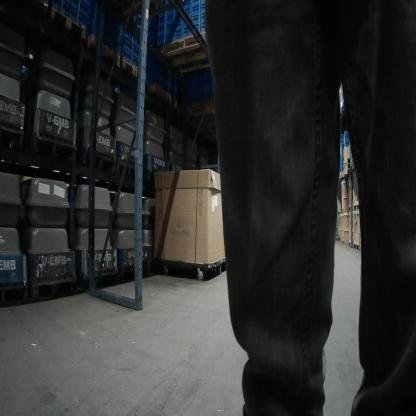pallets: (22, 0, 141, 83), (144, 31, 221, 71), (349, 236, 369, 263), (343, 199, 368, 216)
